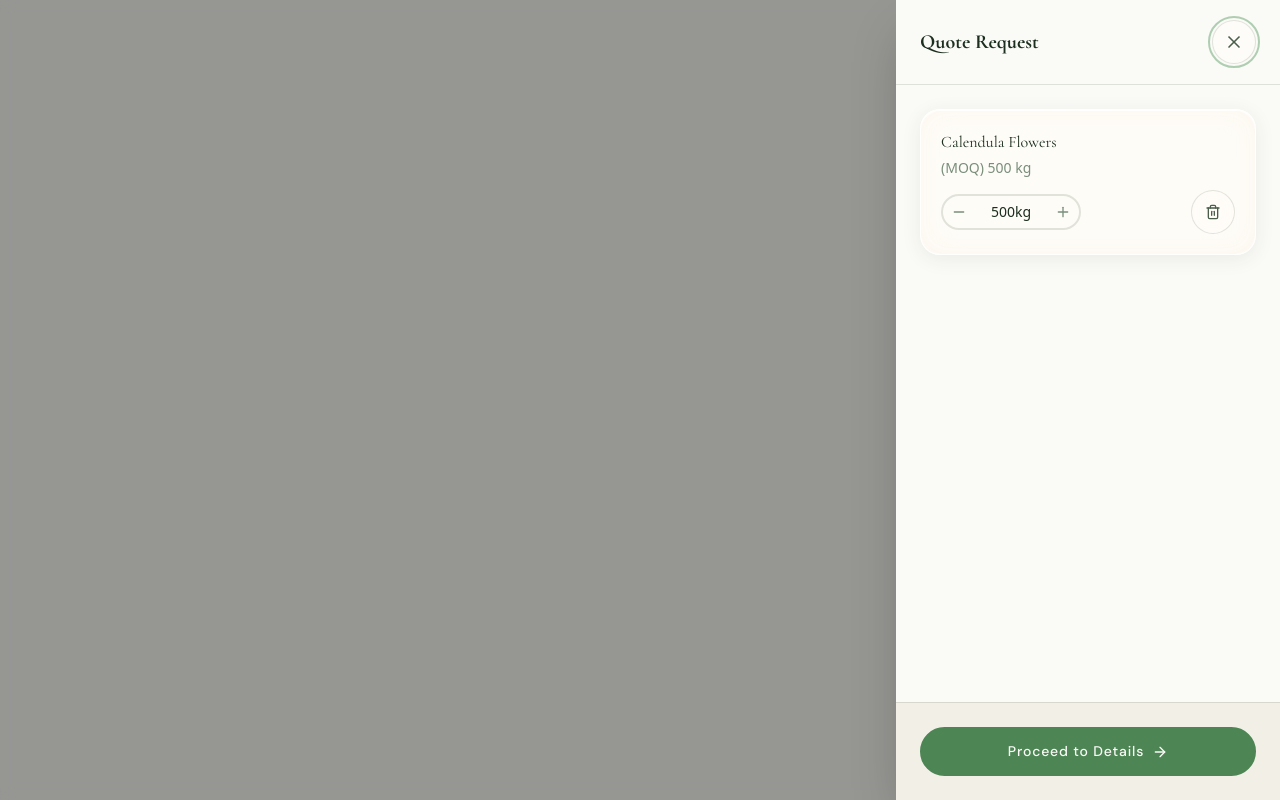
Test: CartDrawer › proceeds to details step and shows form
Click the button "Proceed to Details": coordinates (1088, 752) [920, 727, 1256, 776]
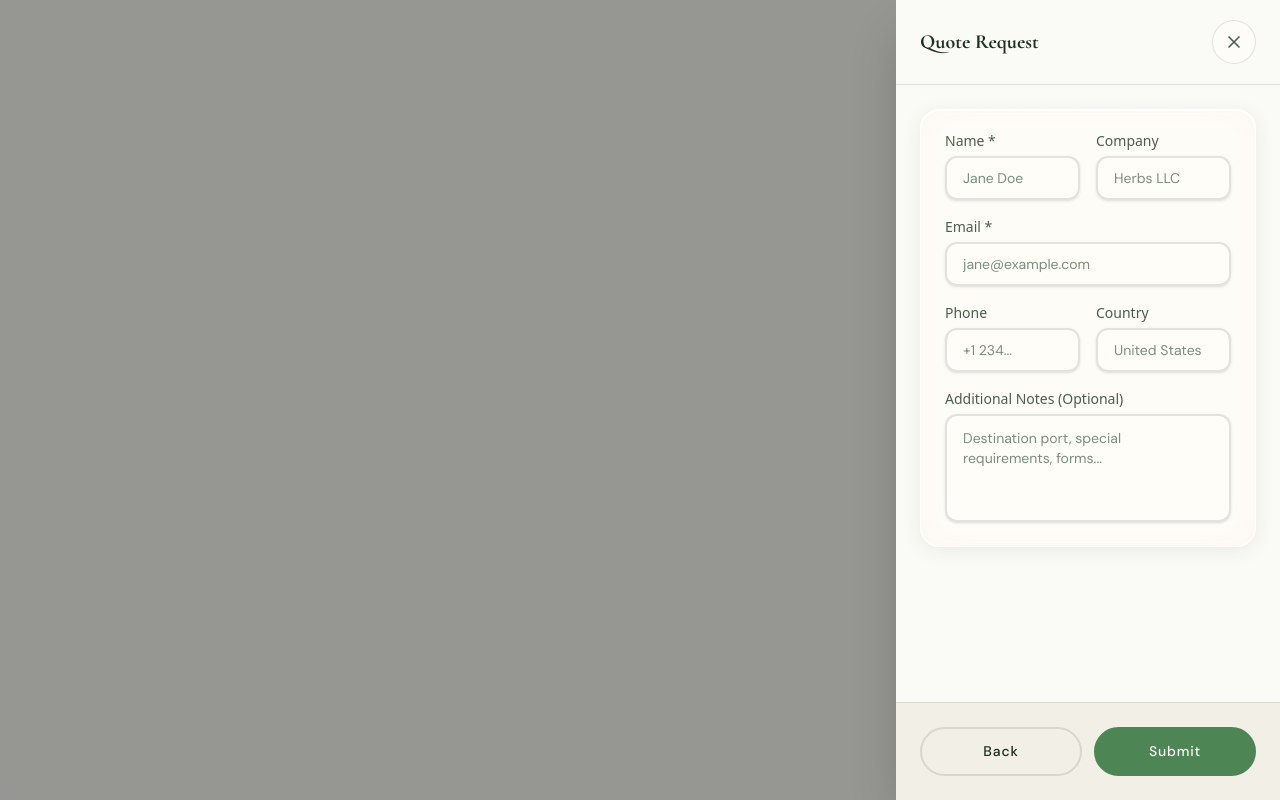
expect the field labelled "Name *" is shown: met, box [945, 156, 1080, 200]
expect the field labelled "Email *" is shown: met, box [945, 242, 1231, 286]
expect the button "Submit" is shown: met, box [1094, 727, 1256, 776]
